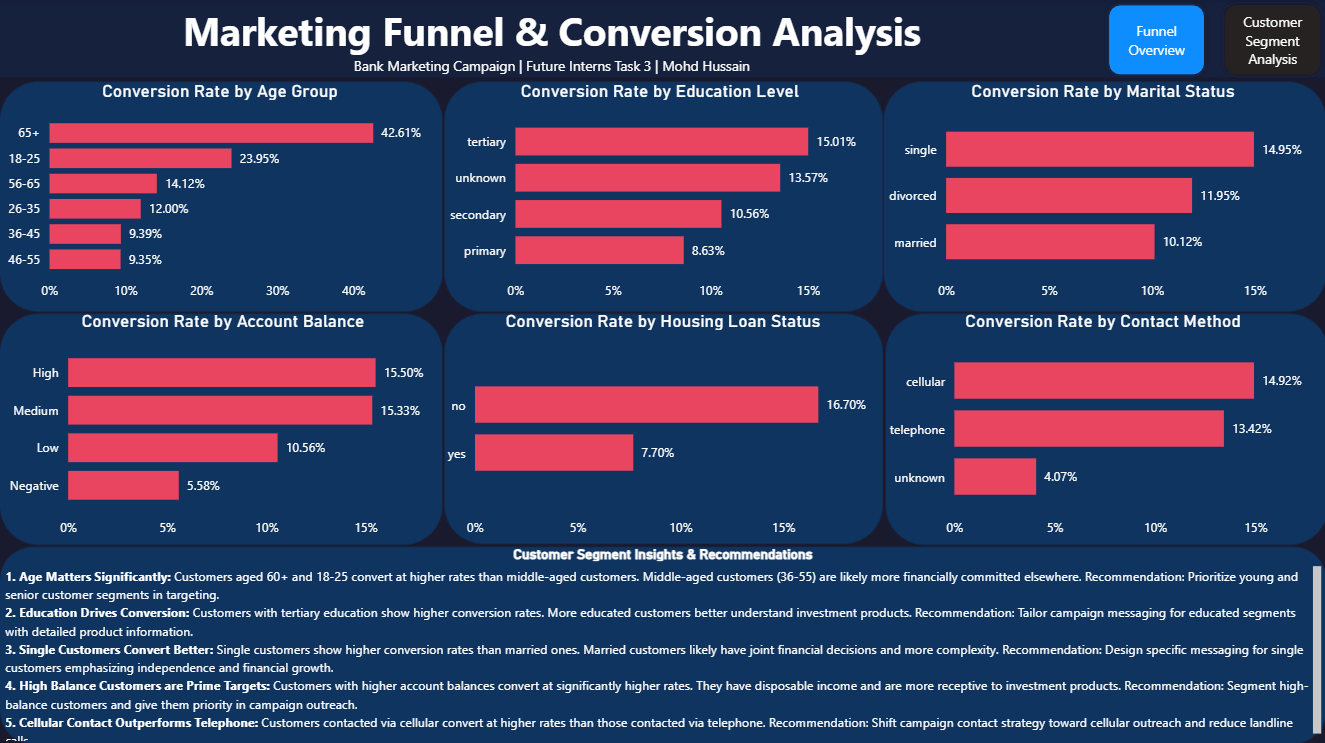

This screenshot's page, from the dashboard's own definition file:
{"tool":"powerbi","page":{"name":"Customer Segment Analysis","canvas":[1280,720],"ordinal":1},"visuals":[{"type":"textbox","box":[0,0,1065.3,77.2],"z":0},{"type":"clusteredBarChart","title":"Conversion Rate by Age Group","fields":{"Category":["bank-full.Age_Group"],"Y":["bank-full.Conversion Rate"]},"box":[0,77.2,424.7,222],"z":1000},{"type":"clusteredBarChart","title":"Conversion Rate by Education Level","fields":{"Y":["bank-full.Conversion Rate"],"Category":["bank-full.education"]},"box":[424.7,77.2,424.7,222],"z":2000},{"type":"clusteredBarChart","title":"Conversion Rate by Marital Status","fields":{"Y":["bank-full.Conversion Rate"],"Category":["bank-full.marital"]},"box":[849.3,77.2,430.7,222],"z":3000},{"type":"clusteredBarChart","title":"Conversion Rate by Account Balance","fields":{"Y":["bank-full.Conversion Rate"],"Category":["bank-full.Balance_Segment"]},"box":[0,299.2,430.7,228],"z":4000},{"type":"clusteredBarChart","title":"Conversion Rate by Housing Loan Status","fields":{"Y":["bank-full.Conversion Rate"],"Category":["bank-full.housing"]},"box":[424.7,299.2,430.7,228],"z":5000},{"type":"clusteredBarChart","title":"Conversion Rate by Contact Method","fields":{"Y":["bank-full.Conversion Rate"],"Category":["bank-full.contact"]},"box":[849.3,299.2,430.7,228],"z":6000},{"type":"textbox","title":"Customer Segment Insights & Recommendations","box":[0,527.2,1280,193],"z":7000},{"type":"pageNavigator","box":[1065.3,0,214.7,77.2],"z":8000}]}

Visuals, with their boxes in screenshot pixels (x1, y1, x2, y2), scaled from the page's 1280x720 canvas onto the 1325x743 screenshot:
textbox: (x1=0, y1=0, x2=1103, y2=80)
"Conversion Rate by Age Group" clusteredBarChart: (x1=0, y1=80, x2=440, y2=309)
"Conversion Rate by Education Level" clusteredBarChart: (x1=440, y1=80, x2=879, y2=309)
"Conversion Rate by Marital Status" clusteredBarChart: (x1=879, y1=80, x2=1324, y2=309)
"Conversion Rate by Account Balance" clusteredBarChart: (x1=0, y1=309, x2=446, y2=544)
"Conversion Rate by Housing Loan Status" clusteredBarChart: (x1=440, y1=309, x2=885, y2=544)
"Conversion Rate by Contact Method" clusteredBarChart: (x1=879, y1=309, x2=1324, y2=544)
"Customer Segment Insights & Recommendations" textbox: (x1=0, y1=544, x2=1324, y2=742)
pageNavigator: (x1=1103, y1=0, x2=1324, y2=80)
